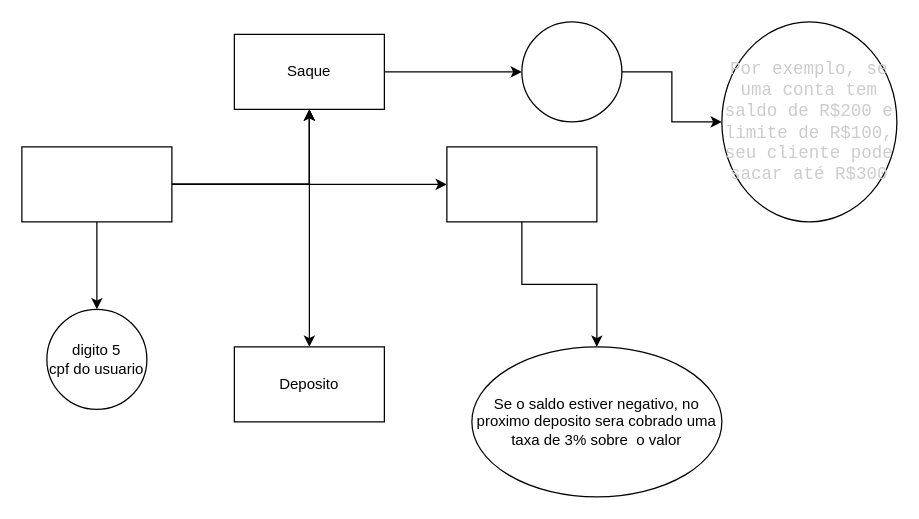
The diagram is 919 pixels wide and 519 high, and some of its shapes have lost their labels. Each missing label, with the centre of its shape:
"conta bancaria" goes at [96,184].
"pode fazer saque acima do saldo" goes at [571,71].
"Saldo" goes at [521,184].
